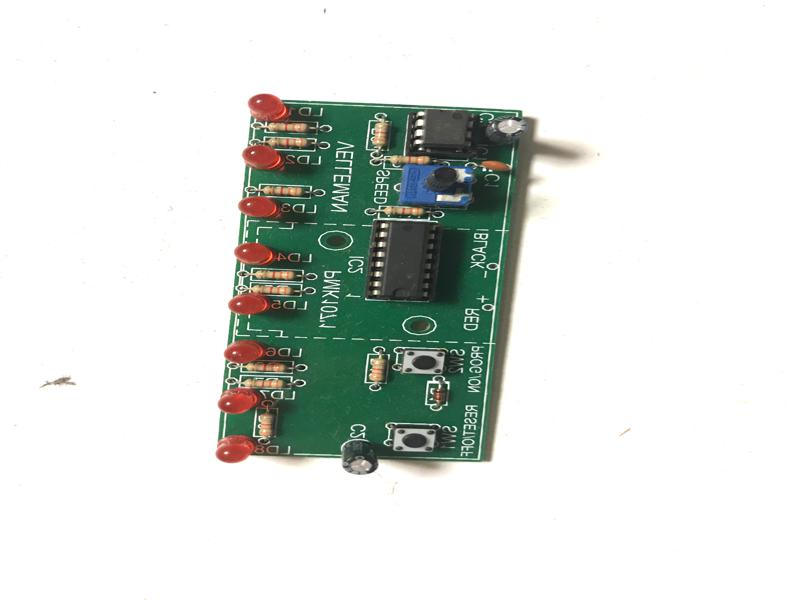Capacitor: (339, 438, 380, 477), (484, 115, 530, 149)
Diode: (432, 383, 448, 406)
LED: (240, 142, 286, 173), (214, 432, 256, 465), (216, 385, 260, 416), (247, 93, 291, 123), (221, 336, 266, 365), (238, 194, 283, 221), (227, 291, 271, 316), (234, 242, 273, 265)
Resistor: (264, 135, 315, 151), (252, 267, 302, 283), (368, 119, 392, 151), (260, 184, 310, 198), (380, 204, 428, 218), (266, 121, 315, 134), (240, 378, 289, 391), (368, 354, 388, 385), (257, 410, 277, 439), (388, 153, 432, 166), (249, 284, 297, 295), (244, 362, 288, 373)
